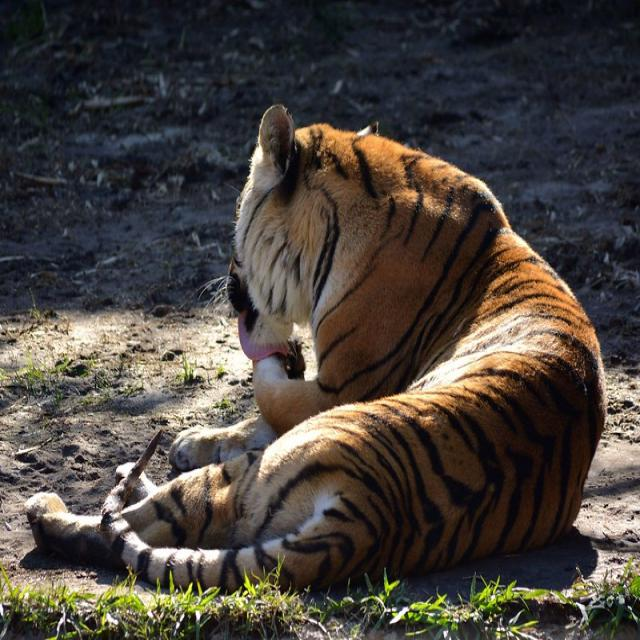Tiger: (48, 85, 610, 612)
